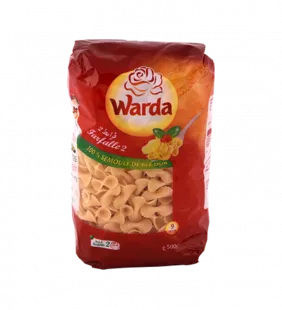LA ROSE BLANCHE: (60, 29, 220, 275)
